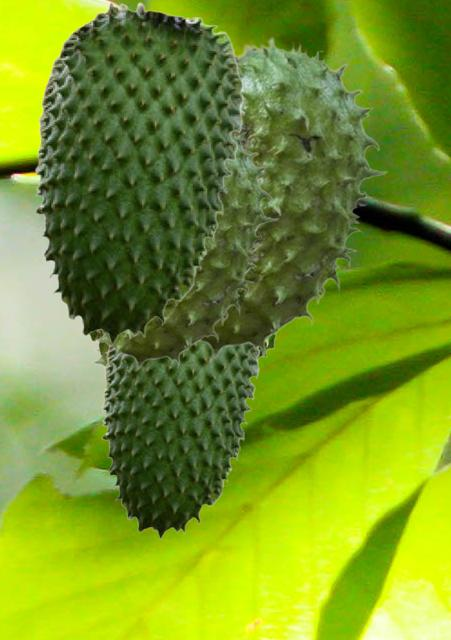guyabano: (34, 1, 243, 344), (199, 35, 387, 361), (94, 129, 278, 371), (101, 343, 259, 538)
